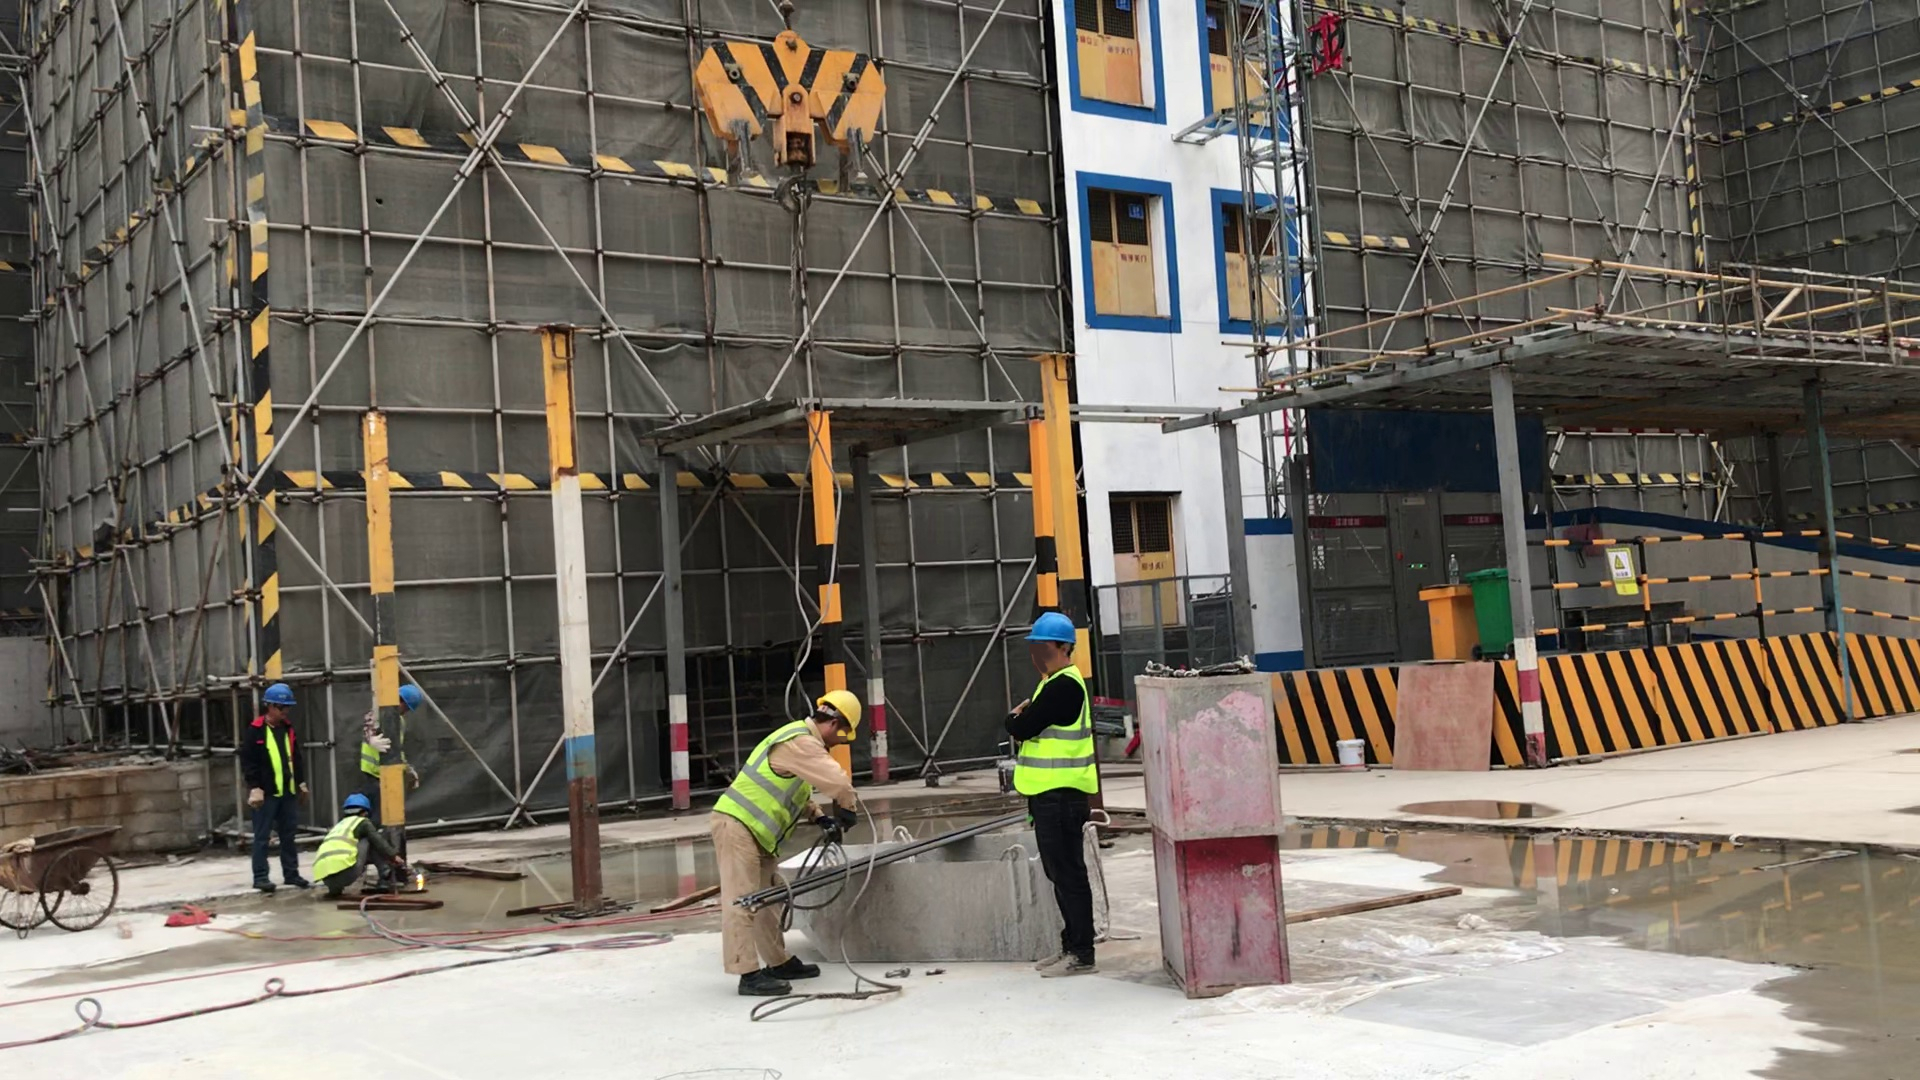board: (1386, 658, 1499, 771)
brick: (2, 753, 245, 851)
handcart: (6, 820, 121, 937)
helmet: (812, 684, 860, 743), (1027, 609, 1078, 647), (256, 684, 302, 705), (339, 787, 372, 813), (397, 681, 423, 711)
hook: (689, 22, 894, 220)
person: (710, 687, 869, 1001), (1006, 610, 1108, 985), (243, 682, 318, 897), (314, 791, 415, 901), (353, 679, 421, 801)
vest: (719, 720, 824, 854), (1012, 663, 1100, 801), (317, 816, 370, 883)
